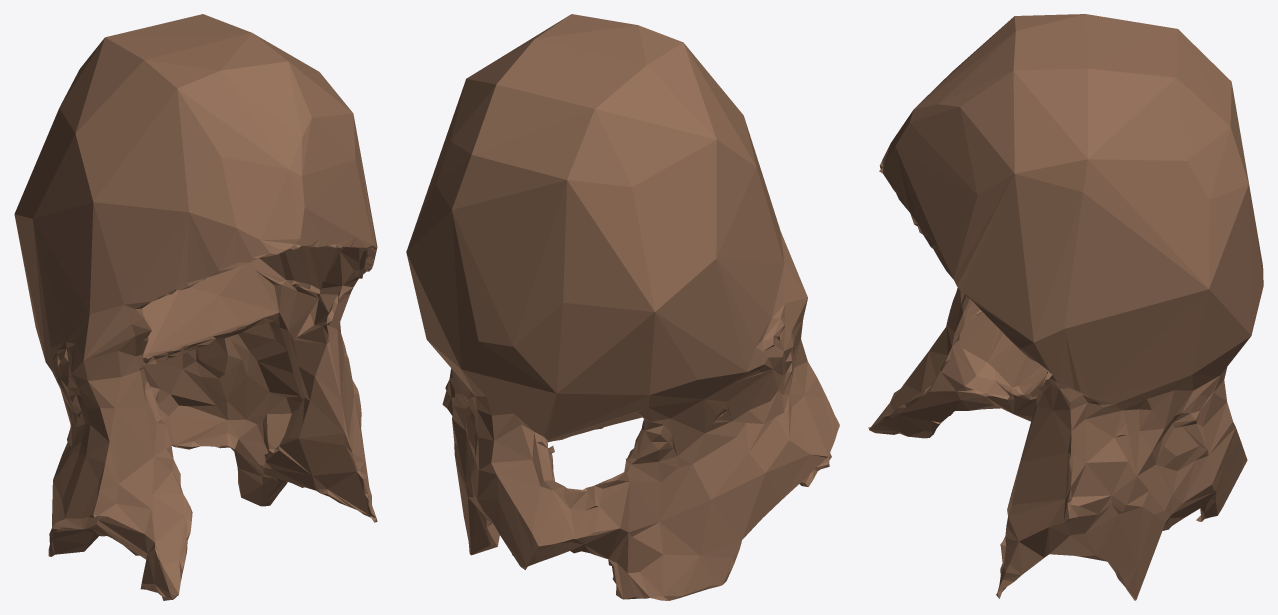
The model's file is Hair_long_LOD2.glb.
3 renders of one model, left to right at view 1: azimuth 30°, elevation 25°; view 2: azimuth 150°, elevation 25°; view 3: azimuth 270°, elevation 25°, orthographic. The views are drawn at different scales.
Visible parts, largest first — view 1: Hair_long_LOD2; view 2: Hair_long_LOD2; view 3: Hair_long_LOD2.
Part boxes in pixels (x1,y1,x2,y2): Hair_long_LOD2: (14,14,377,600); Hair_long_LOD2: (406,14,839,600); Hair_long_LOD2: (868,14,1263,600).
Size of the model in its own units: 0.2476 by 0.3532 by 0.2451.
